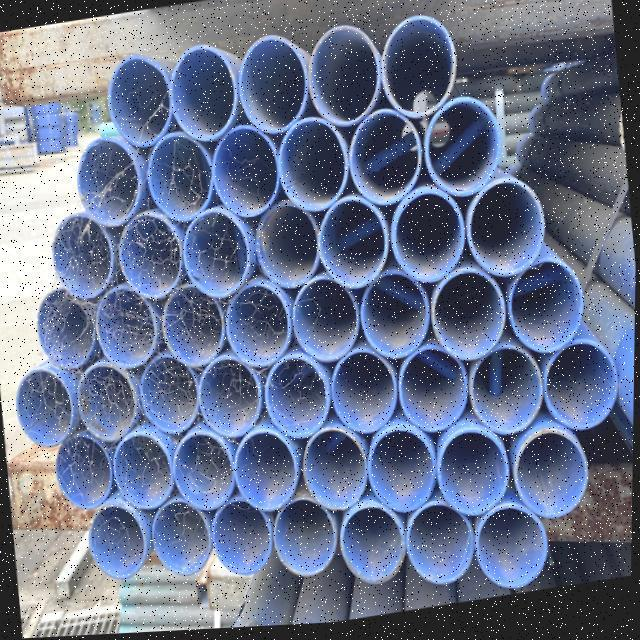pipe: (305, 28, 390, 131), (377, 20, 458, 126), (424, 100, 507, 203), (507, 261, 594, 357), (465, 181, 547, 281), (234, 36, 307, 137), (103, 57, 182, 150), (430, 272, 508, 366), (275, 118, 348, 216), (207, 125, 282, 220), (179, 210, 256, 301), (391, 192, 466, 285), (543, 343, 618, 436), (390, 350, 469, 438), (168, 47, 236, 149), (352, 112, 422, 209), (466, 348, 540, 438), (319, 198, 390, 291), (436, 430, 509, 520), (511, 430, 584, 518), (358, 274, 430, 362), (263, 355, 336, 441), (478, 506, 551, 592), (74, 138, 142, 230), (161, 284, 230, 374), (291, 279, 361, 366), (252, 202, 320, 290), (366, 432, 437, 516), (145, 134, 212, 223), (116, 212, 183, 301), (332, 350, 399, 439), (226, 284, 297, 367), (50, 212, 115, 300), (228, 433, 294, 519), (303, 429, 370, 513), (407, 510, 477, 590), (272, 501, 341, 580), (339, 506, 407, 586), (169, 432, 234, 515), (201, 355, 265, 437), (96, 284, 158, 368), (110, 432, 174, 513), (78, 362, 139, 445), (138, 353, 200, 434), (16, 364, 74, 450), (213, 500, 275, 580), (148, 502, 212, 579), (35, 291, 95, 373), (54, 432, 113, 513), (84, 503, 145, 581)
